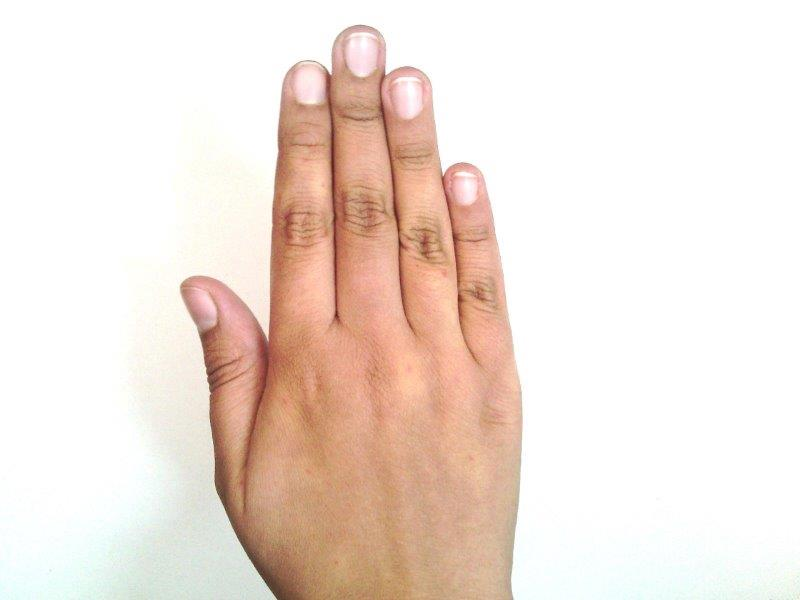hand: (180, 27, 523, 599)
